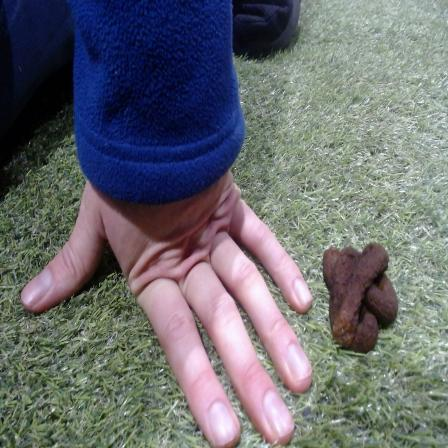dog-poop: (319, 244, 399, 347)
